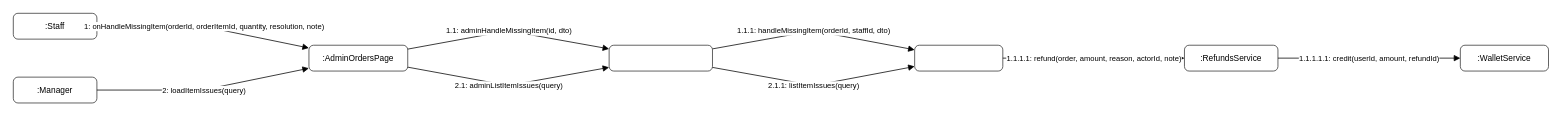
Some shapes in this 1562 by 116 pixel diagram are drawn without their labels. The centre of each missing label's shape, as x and y in pixels:
:OrdersController: point 660,57
:OrdersService: point 958,57
